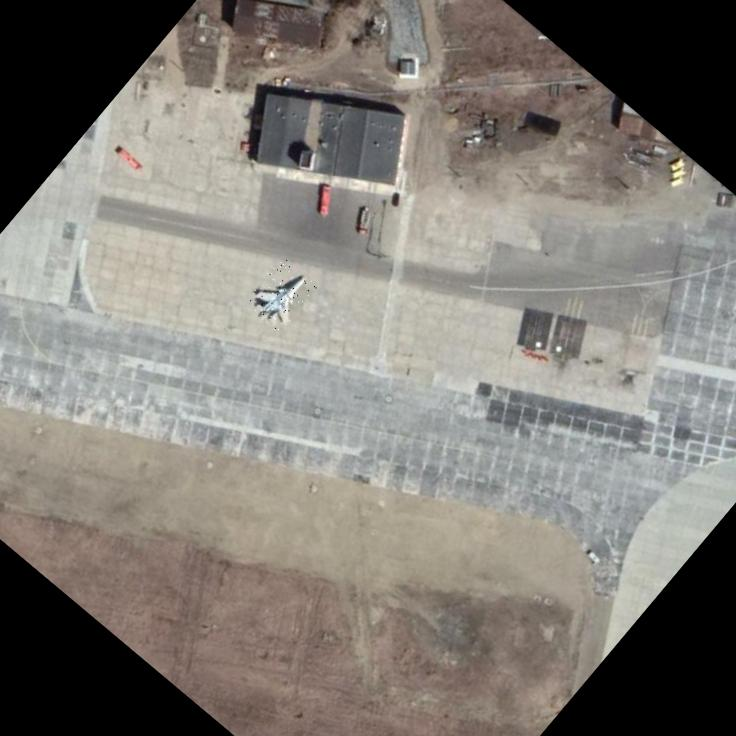A19: (242, 256, 319, 334)
